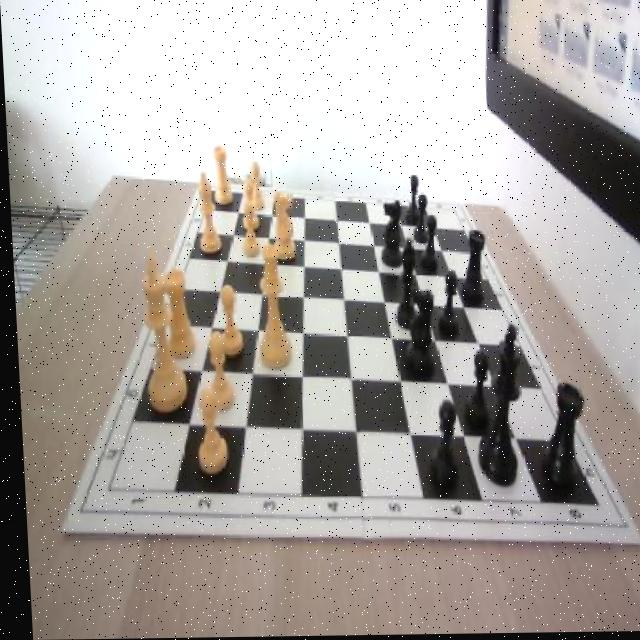bishop: (388, 238, 415, 336)
black-bishop: (467, 325, 521, 490)
black-king: (398, 290, 434, 382), (376, 198, 401, 269)
black-knight: (423, 404, 456, 492), (458, 348, 487, 434), (431, 269, 457, 339), (417, 218, 436, 274), (401, 177, 420, 229), (410, 195, 428, 244)
black-queen: (534, 384, 582, 498), (458, 228, 487, 307)
black-rook: (195, 173, 220, 252)
white-bishop: (132, 258, 184, 413)
white-king: (268, 191, 295, 261)
white-knight: (188, 389, 225, 478), (203, 333, 236, 416), (212, 284, 241, 355), (238, 202, 259, 258), (238, 179, 256, 232), (247, 160, 262, 210)
white-pawn: (251, 243, 289, 370)
white-queen: (159, 270, 193, 359), (211, 146, 232, 207)
